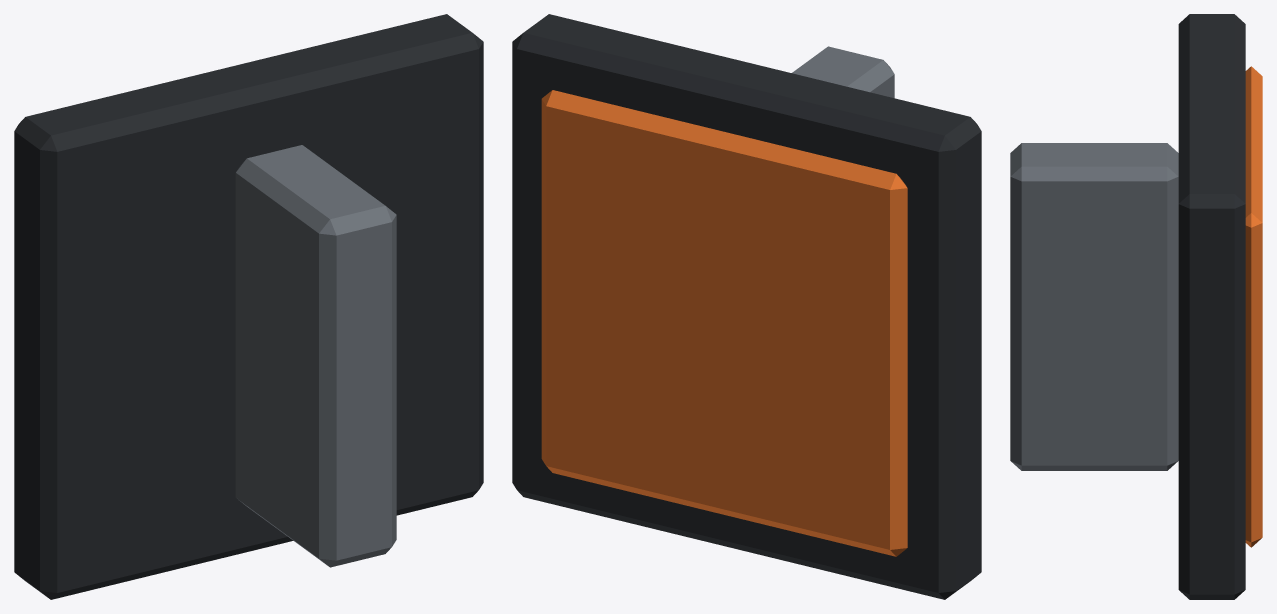
Rendered from reflector.glb.
The picture shows the model from 3 angles, left to right: view 1: azimuth 30°, elevation 25°; view 2: azimuth 150°, elevation 25°; view 3: azimuth 270°, elevation 25°; orthographic projection. The views are drawn at different scales.
Parts seen in each view (by area): view 1: Reflector; view 2: Reflector; view 3: Reflector.
Part boxes in pixels (bbox=[...]): Reflector: bbox=[14, 14, 483, 599]; Reflector: bbox=[512, 14, 981, 599]; Reflector: bbox=[1010, 14, 1262, 599].
Bounding box in the file's own units: 0.08 × 0.08 × 0.045.
